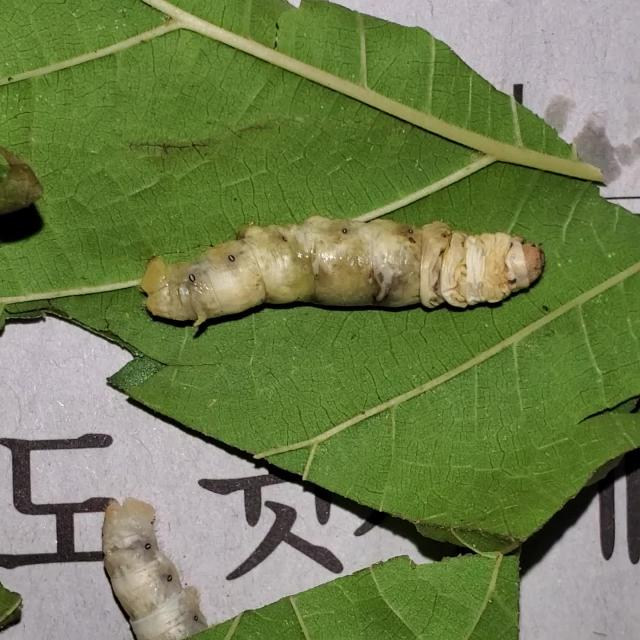Grasserie: (130, 202, 547, 338)
